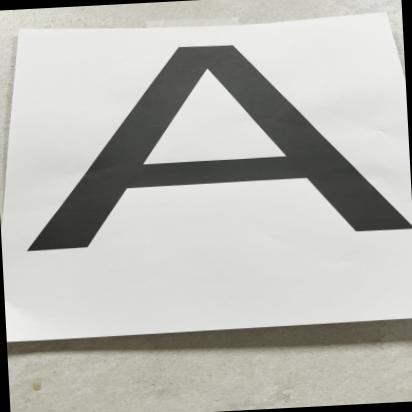seat: (12, 25, 383, 268)
